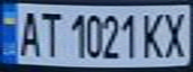0: (84, 10, 106, 60)
1: (118, 10, 142, 60), (63, 10, 87, 58)
2: (103, 11, 121, 60)
A: (12, 7, 45, 58)
K: (139, 9, 166, 60)
T: (36, 7, 63, 58)
X: (160, 8, 193, 59)
